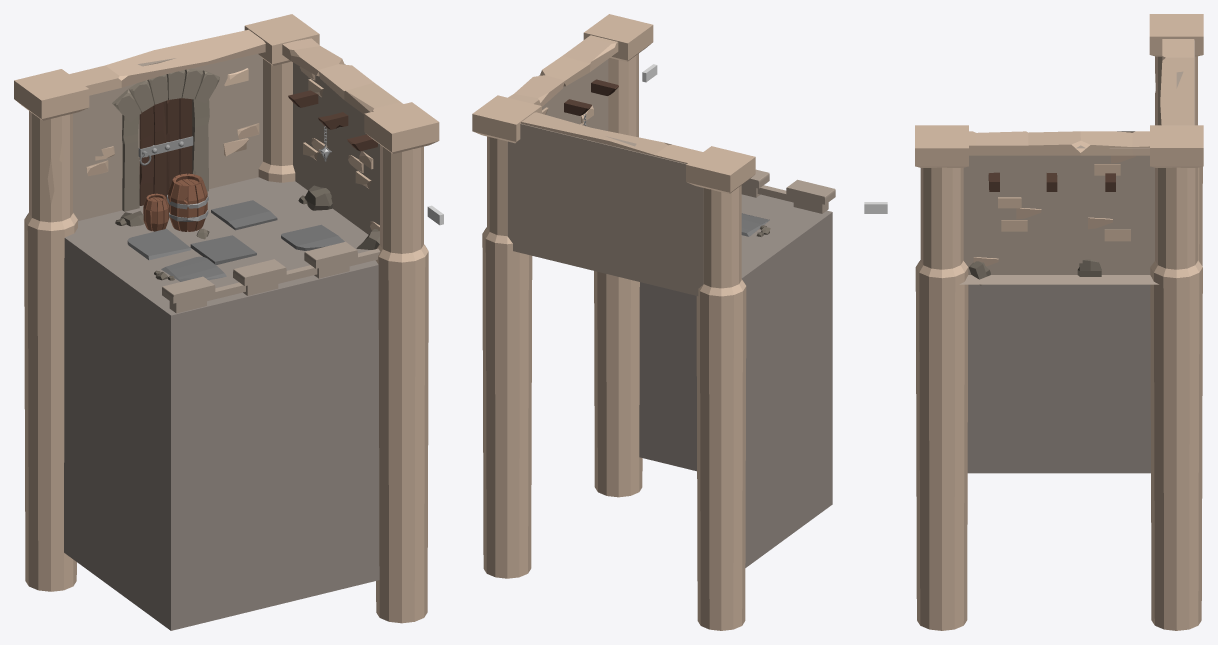
File: sceneryTDR.fbx_Scene.fbx
3 views of the same model, side by side, from view 1: azimuth 30°, elevation 25°; view 2: azimuth 150°, elevation 25°; view 3: azimuth 270°, elevation 25° (orthographic). The views are drawn at different scales.
Visible parts, largest first — view 1: groundAndWall, Circle.001, Circle, groundAndWall.001, Plane.010, Plane.006, Fence, Circle.003, Plane.011, Plane.005, Plane.004, Plane.001 (+10 smaller); view 2: groundAndWall, groundAndWall.001, Circle, Circle.003, Circle.001, Plane.011, Plane.010, Plane.001, Plane.002, Plane.003, Fence; view 3: groundAndWall, Circle.001, Circle.003, groundAndWall.001, Plane.011, Plane.010, Plane.002, Plane.003, Plane.001, Circle.
Part boxes in pixels (x1,y1,x2,y2): groundAndWall: [64, 177, 379, 630]; Circle.001: [375, 145, 428, 623]; Circle: [24, 111, 77, 591]; groundAndWall.001: [73, 54, 379, 234]; Plane.010: [69, 29, 265, 95]; Plane.006: [139, 98, 192, 205]; Fence: [162, 241, 357, 313]; Circle.003: [258, 59, 295, 182]; Plane.011: [282, 38, 402, 114]; Plane.005: [122, 99, 209, 211]; Plane.004: [112, 68, 219, 122]; Plane.001: [14, 69, 89, 120]; groundAndWall: [639, 194, 832, 567]; groundAndWall.001: [507, 59, 703, 295]; Circle: [696, 185, 746, 630]; Circle.003: [482, 136, 532, 578]; Circle.001: [594, 53, 642, 497]; Plane.011: [508, 35, 618, 106]; Plane.010: [521, 112, 702, 163]; Plane.001: [686, 146, 755, 193]; Plane.002: [472, 95, 541, 143]; Plane.003: [583, 14, 653, 61]; Fence: [741, 169, 835, 213]; groundAndWall: [967, 284, 1150, 473]; Circle.001: [915, 167, 968, 630]; Circle.003: [1150, 167, 1202, 630]; groundAndWall.001: [959, 40, 1194, 284]; Plane.011: [969, 131, 1149, 155]; Plane.010: [1160, 39, 1194, 125]; Plane.002: [1150, 125, 1203, 167]; Plane.003: [915, 125, 968, 167]; Plane.001: [1149, 14, 1203, 56]; Circle: [1155, 56, 1202, 265].
Size of the model in its own units: 340 by 580 by 367.
